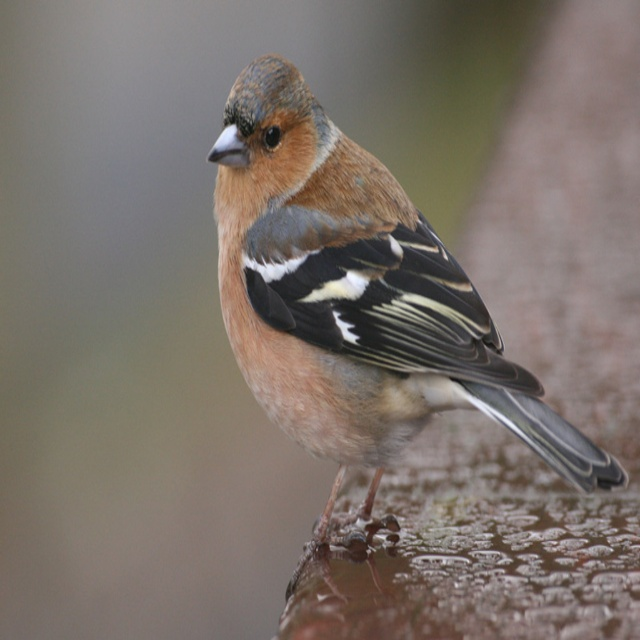Sparrow: (207, 44, 632, 601)
